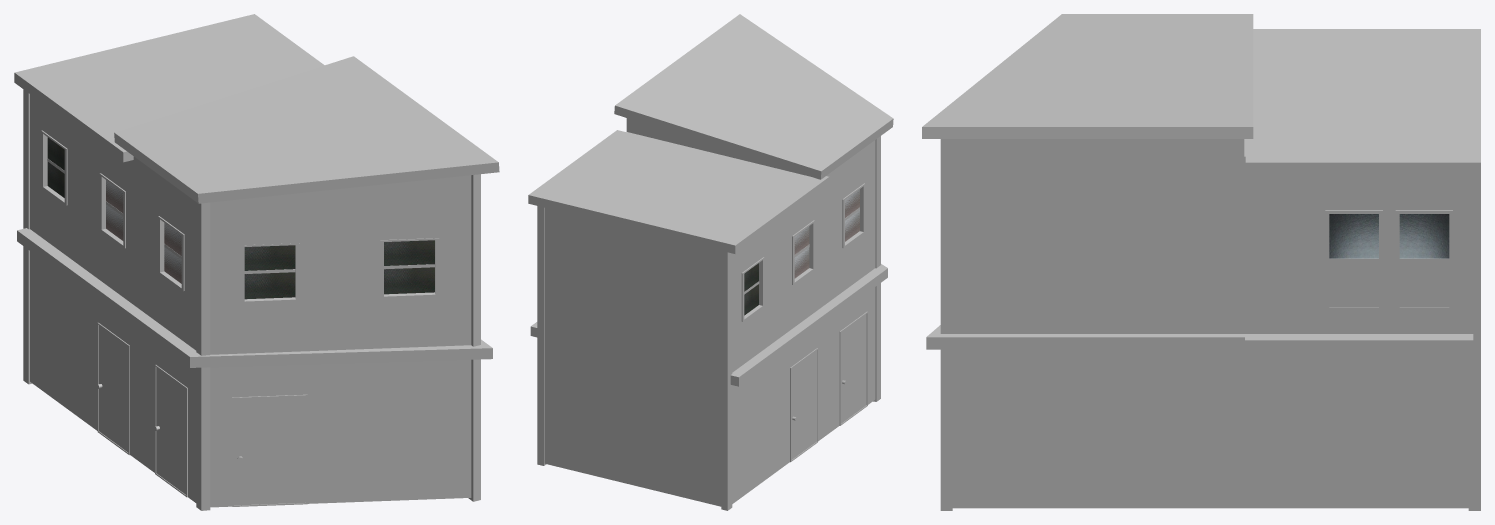
The model's file is apart_poor_07b.fbx.
3 renders of one model, left to right at view 1: azimuth 30°, elevation 25°; view 2: azimuth 150°, elevation 25°; view 3: azimuth 270°, elevation 25°, orthographic. The views are drawn at different scales.
Parts seen in each view (by area): view 1: apart_poor_07b; view 2: apart_poor_07b; view 3: apart_poor_07b.
Part boxes in pixels (x1=…): apart_poor_07b: x1=14, y1=14, x2=499, y2=510; apart_poor_07b: x1=528, y1=14, x2=893, y2=510; apart_poor_07b: x1=922, y1=14, x2=1480, y2=510.
Bounding box in the file's own units: 4.69 × 6.32 × 8.23.
